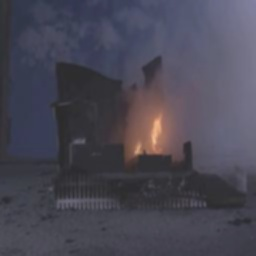fire: (132, 95, 177, 159)
smoke: (173, 2, 256, 105)
